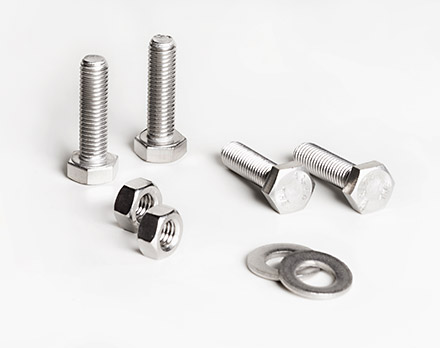screw: (65, 55, 121, 187), (132, 35, 188, 164), (293, 142, 394, 213), (220, 141, 316, 214)
